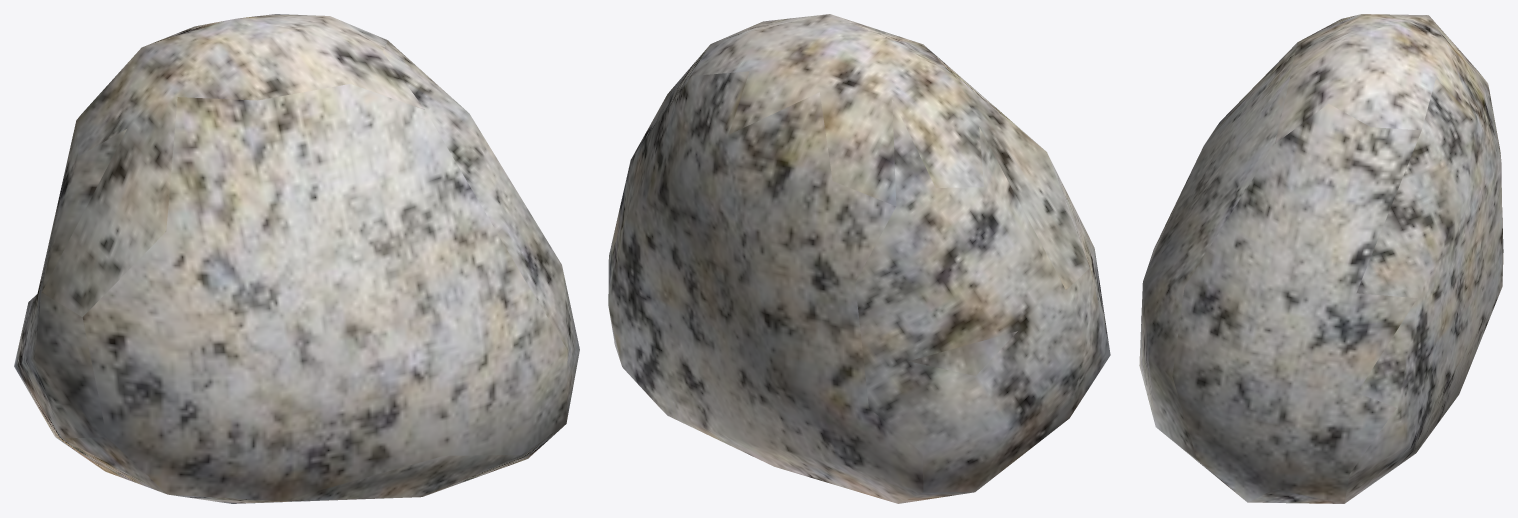
Rendered from rock.glb.
The picture shows the model from 3 angles, left to right: view 1: azimuth 30°, elevation 25°; view 2: azimuth 150°, elevation 25°; view 3: azimuth 270°, elevation 25°; orthographic projection. The views are drawn at different scales.
Visible parts, largest first — view 1: rock078_lod4; view 2: rock078_lod4; view 3: rock078_lod4.
Part boxes in pixels (bbox=[...]): rock078_lod4: bbox=[14, 14, 579, 503]; rock078_lod4: bbox=[608, 14, 1110, 503]; rock078_lod4: bbox=[1139, 14, 1503, 503].
Bounding box in the file's own units: 1 × 0.8675 × 0.7286.
1 material, 1 textured.
